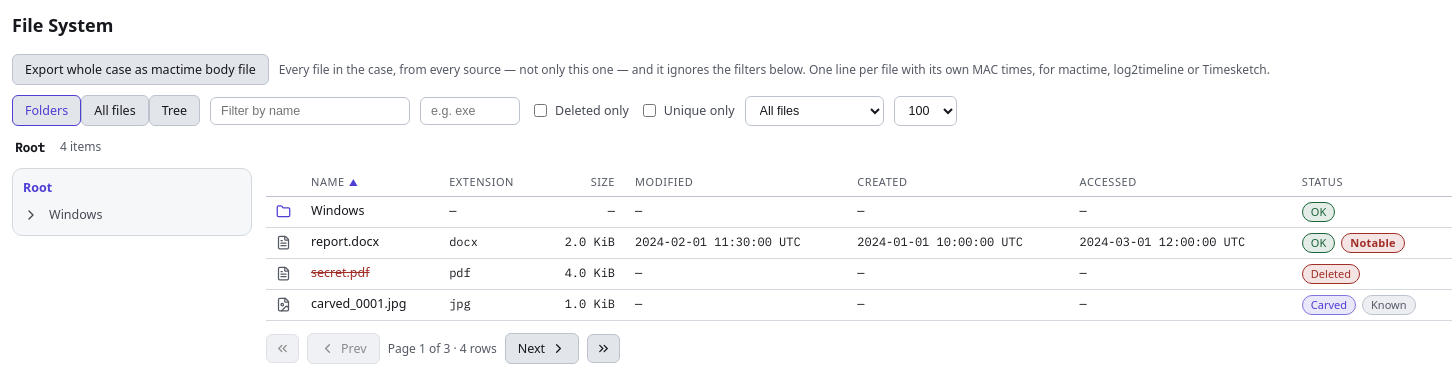
FileGridPage folder mode › descends on double-click and climbs via breadcrumb
The image size is (1452, 381).
Expected: the text "report.docx" is shown, [311,233,379,250]
Double-click the text "Windows" at {"x": 338, "y": 210}, box [311,202,364,219]
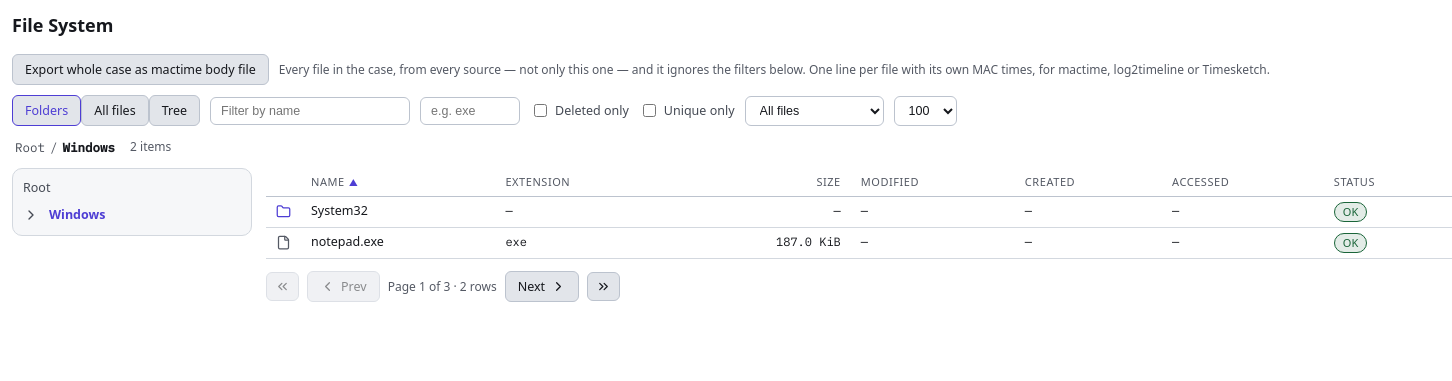
Expected: the button "Windows" in the row of "items" is shown, [60,137,118,157]
Expected: the text "notepad.exe" is shown, [311,233,384,250]
Click the button "Root" in the row of "items" at {"x": 30, "y": 147}, box [12,137,48,157]
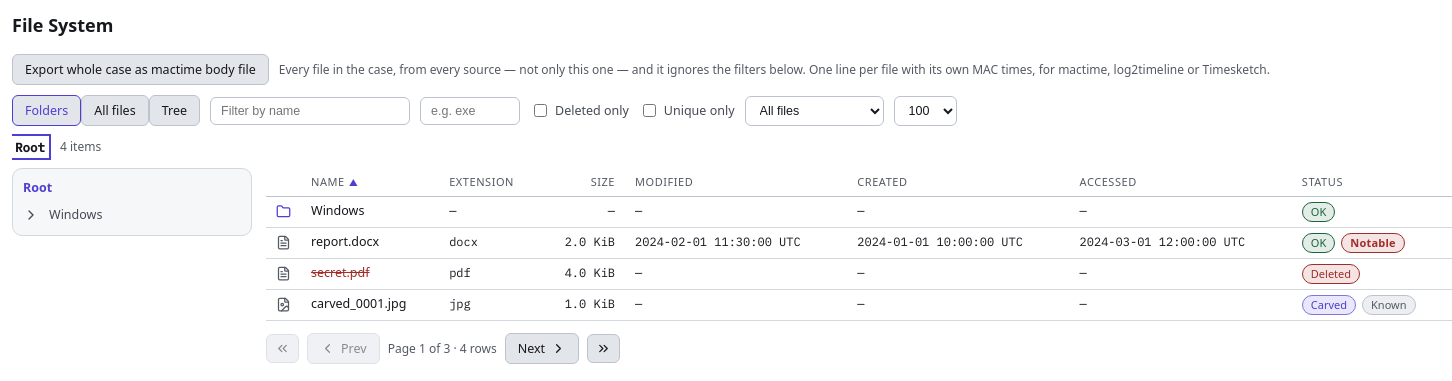
Expected: the text "report.docx" is shown, [311,233,379,250]
